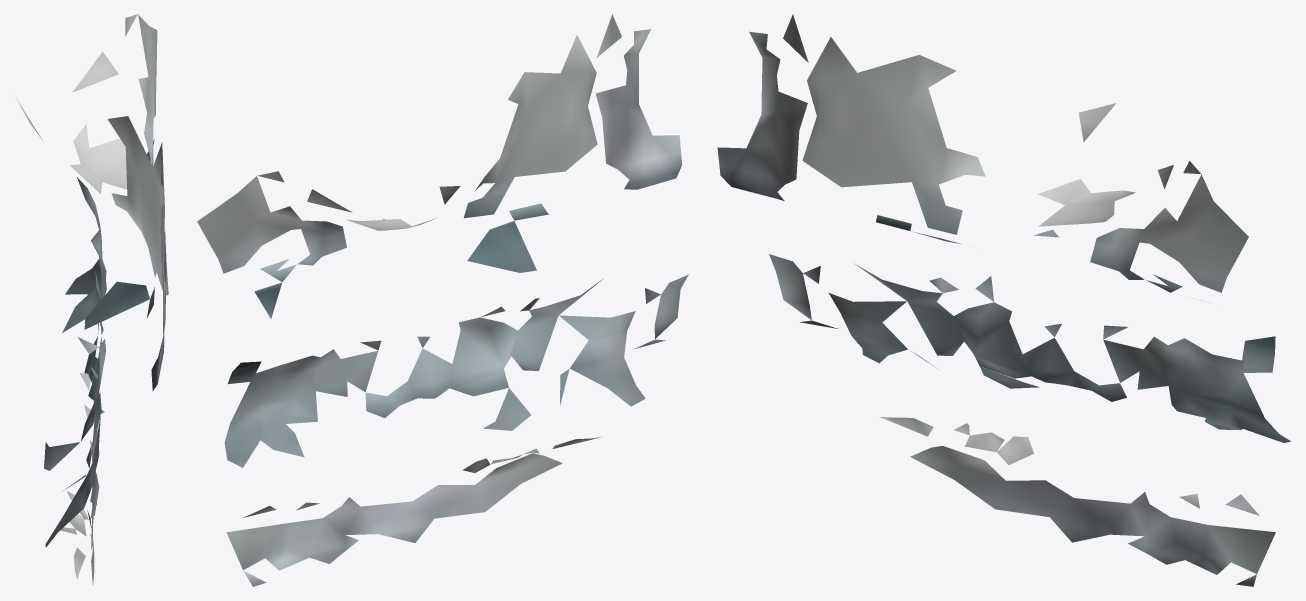
File: midPoint2-transformed.glb
3 renders of one model, left to right at view 1: azimuth 30°, elevation 25°; view 2: azimuth 150°, elevation 25°; view 3: azimuth 270°, elevation 25°, orthographic. The views are drawn at different scales.
Visible parts, largest first — view 1: Tile_25.001; view 2: Tile_25.001; view 3: Tile_25.001.
Boxes of the visible parts, box(x1,y1,x2,y2) form: Tile_25.001: box(16, 14, 168, 585); Tile_25.001: box(197, 14, 688, 586); Tile_25.001: box(717, 14, 1290, 586).
Size of the model in its own units: 0.5823 by 0.9318 by 0.9795.
Materials: 1 (1 with a texture image).
